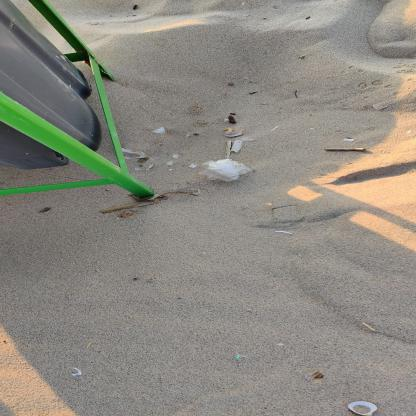plastik: (198, 158, 252, 182)
